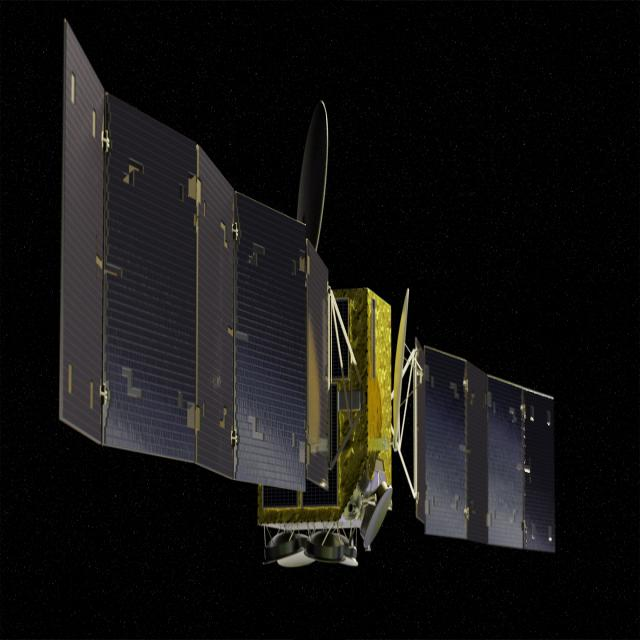medium_debris: (56, 11, 561, 580)
